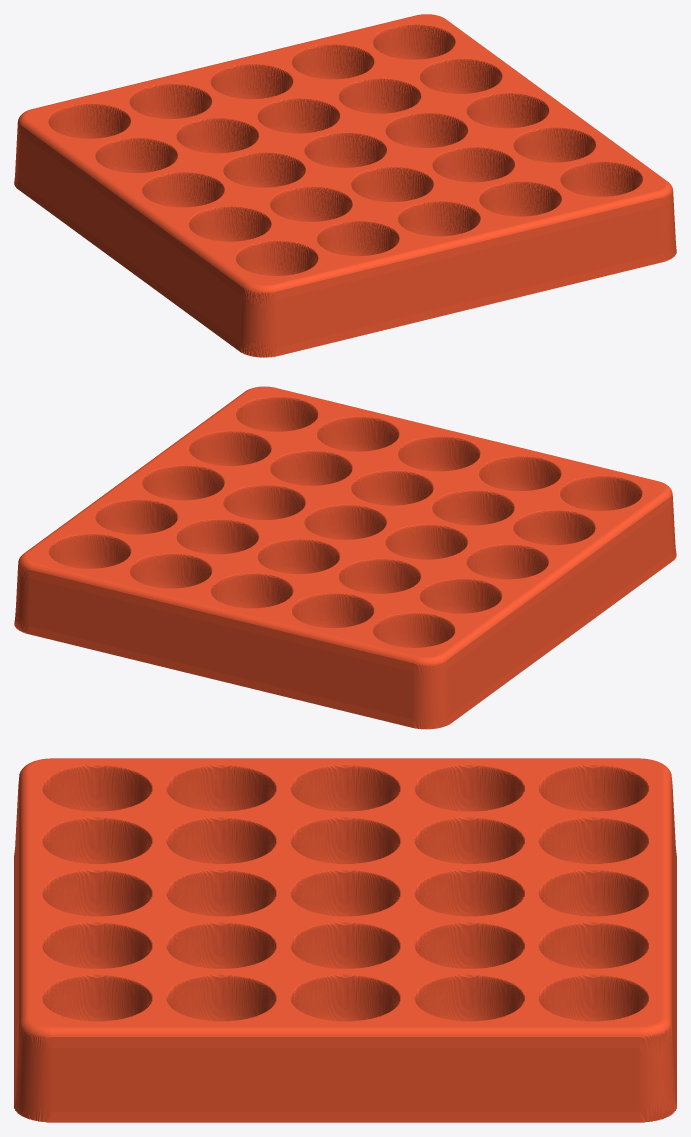
Rendered from mold.glb.
The picture shows the model from 3 angles, top to bottom: view 1: azimuth 30°, elevation 25°; view 2: azimuth 150°, elevation 25°; view 3: azimuth 270°, elevation 25°; orthographic projection. The views are drawn at different scales.
Parts seen in each view (by area): view 1: geometry_0; view 2: geometry_0; view 3: geometry_0.
Part boxes in pixels (x1,y1,x2,y2): geometry_0: [14, 14, 676, 357]; geometry_0: [14, 386, 676, 729]; geometry_0: [14, 758, 676, 1122].
Bounding box in the file's own units: 0.1584 × 0.0235 × 0.1584.
